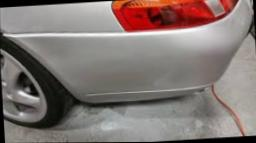Bumper: (117, 54, 197, 94)
Fender: (0, 20, 44, 45)
